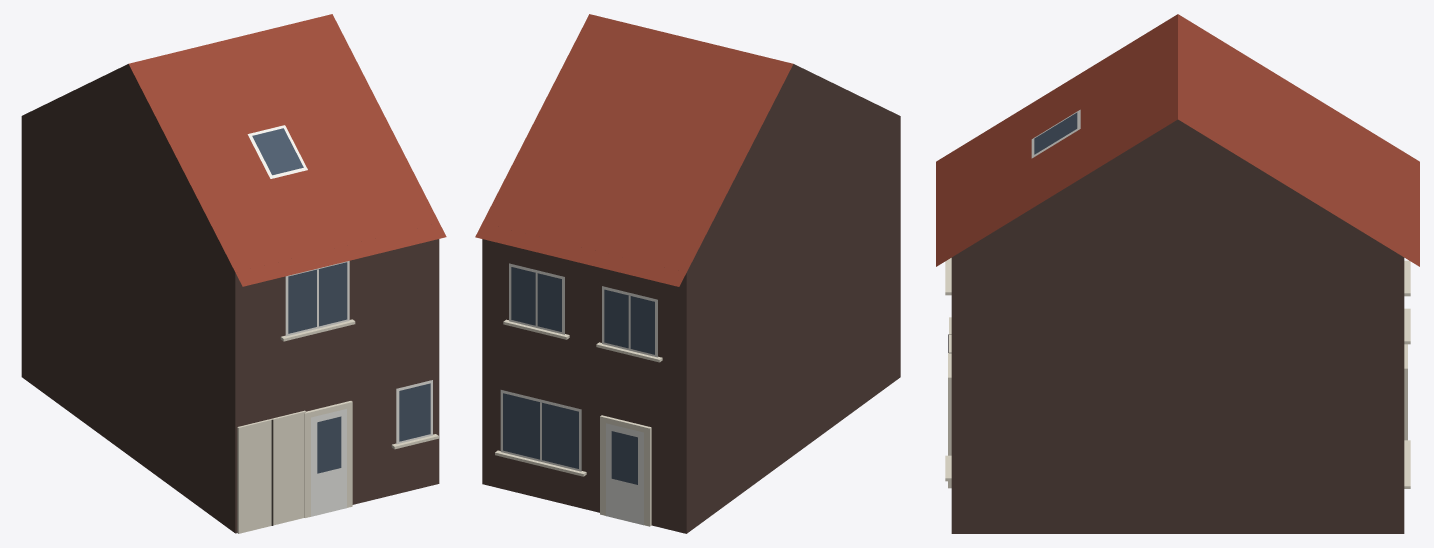
File: nw-rowhouse-garage-door__white-tile__2__gable__long__solid.glb
The picture shows the model from 3 angles, left to right: view 1: azimuth 30°, elevation 25°; view 2: azimuth 150°, elevation 25°; view 3: azimuth 270°, elevation 25°; orthographic projection. The views are drawn at different scales.
Visible parts, largest first — view 1: nw-rowhouse-garage-door__white-tile__2__gable__long__solid; view 2: nw-rowhouse-garage-door__white-tile__2__gable__long__solid; view 3: nw-rowhouse-garage-door__white-tile__2__gable__long__solid.
Part boxes in pixels (<box>): nw-rowhouse-garage-door__white-tile__2__gable__long__solid: <box>21,14,446,533</box>; nw-rowhouse-garage-door__white-tile__2__gable__long__solid: <box>475,14,900,533</box>; nw-rowhouse-garage-door__white-tile__2__gable__long__solid: <box>936,14,1419,533</box>.
Size of the model in its own units: 4.83 by 8.86 by 9.38.
